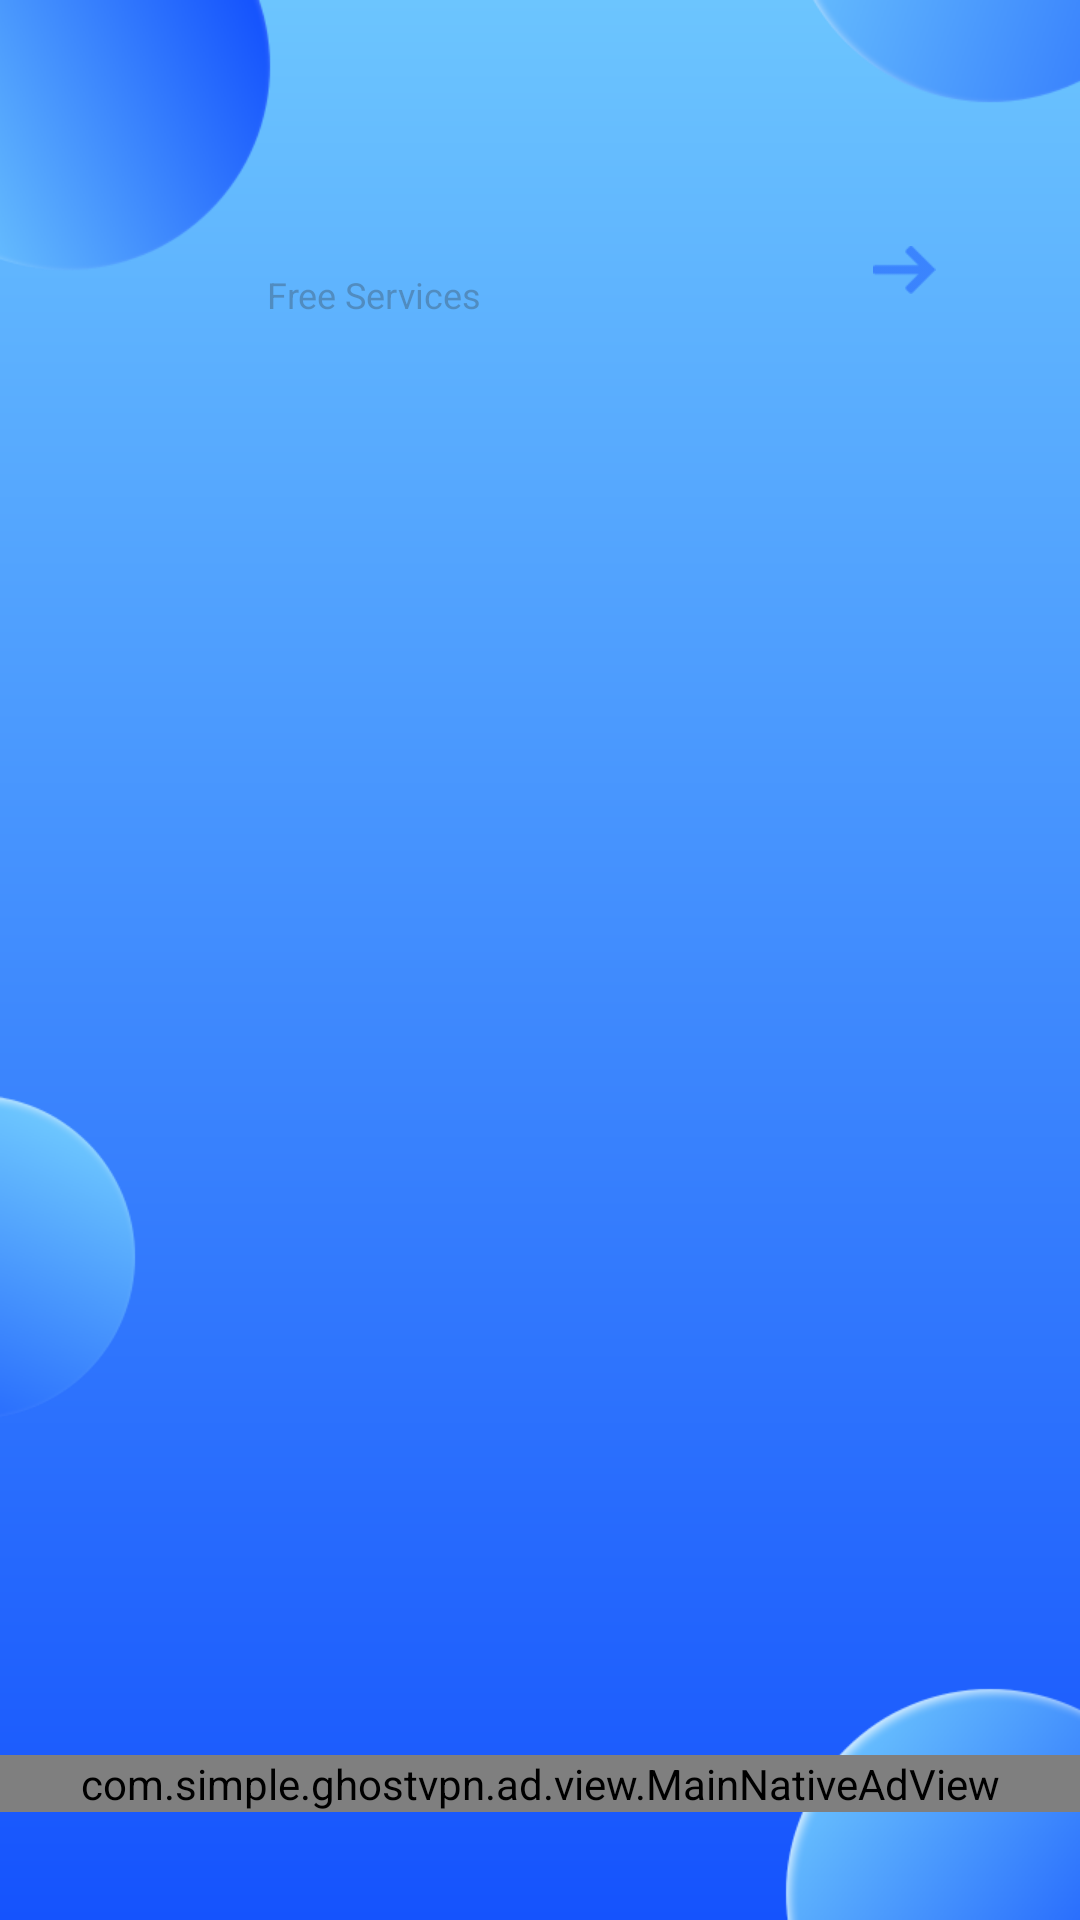

Locate icon controls on the screen. Image size 1080 x 1920, boxes as region(x1, y1, x2, y2).
mian switch enter: region(873, 246, 935, 294)
